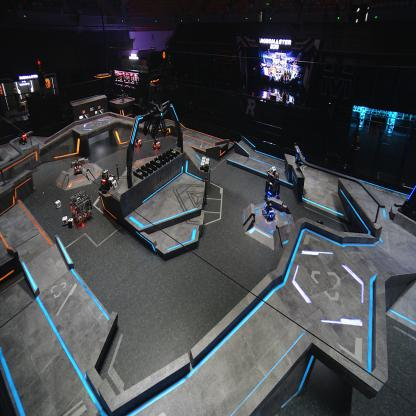car: (70, 189, 92, 226), (264, 172, 280, 202), (99, 168, 116, 193), (262, 202, 276, 222), (73, 157, 83, 175), (151, 135, 161, 150), (132, 134, 142, 148)
